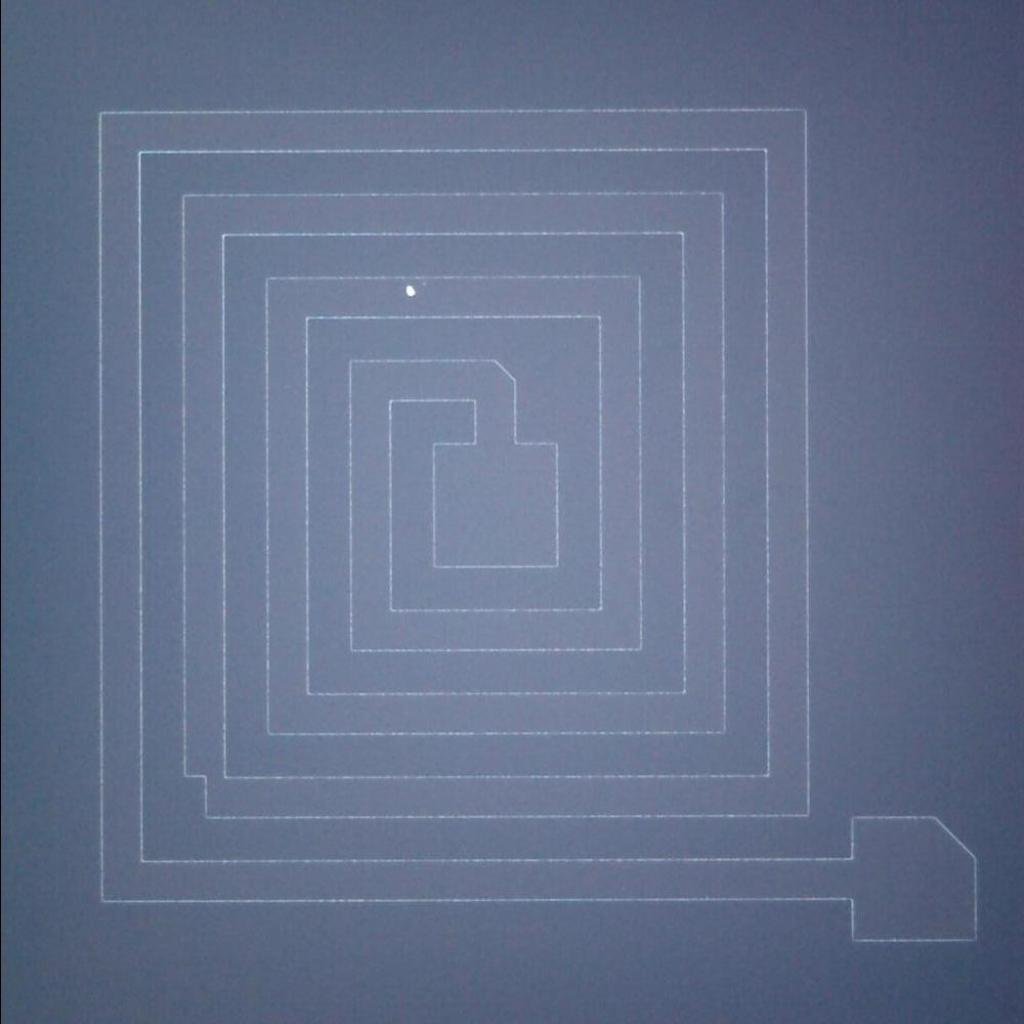edge circuit: (929, 804, 986, 867), (173, 762, 215, 821), (480, 345, 527, 396)
spot: (397, 281, 418, 301)
